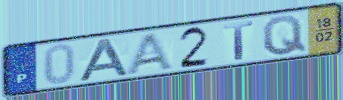0: (41, 42, 79, 87)
2: (177, 25, 212, 70)
A: (77, 36, 133, 83), (123, 31, 177, 76)
Q: (260, 14, 308, 57)
T: (222, 20, 256, 61)
